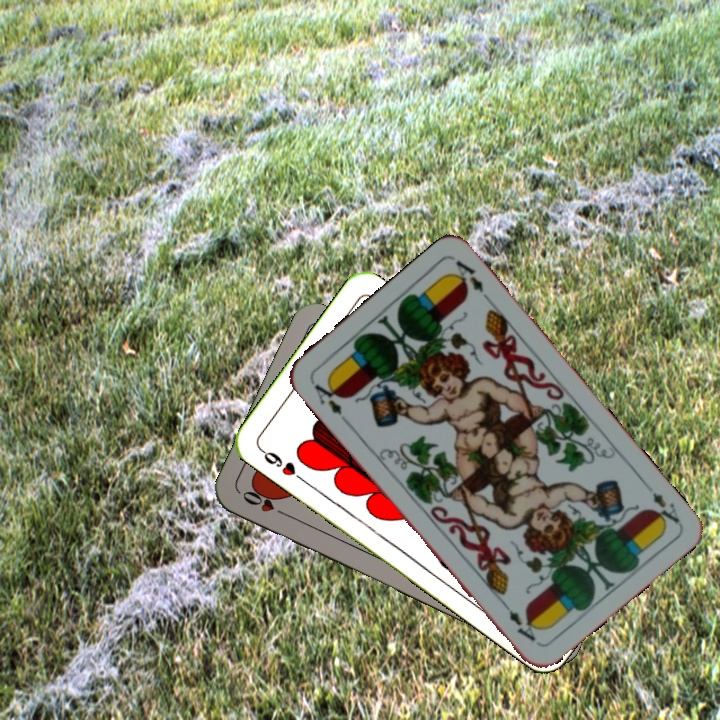EA: (639, 478, 682, 530), (310, 376, 351, 427)
H9: (255, 444, 306, 484)
HO: (238, 484, 293, 520)
